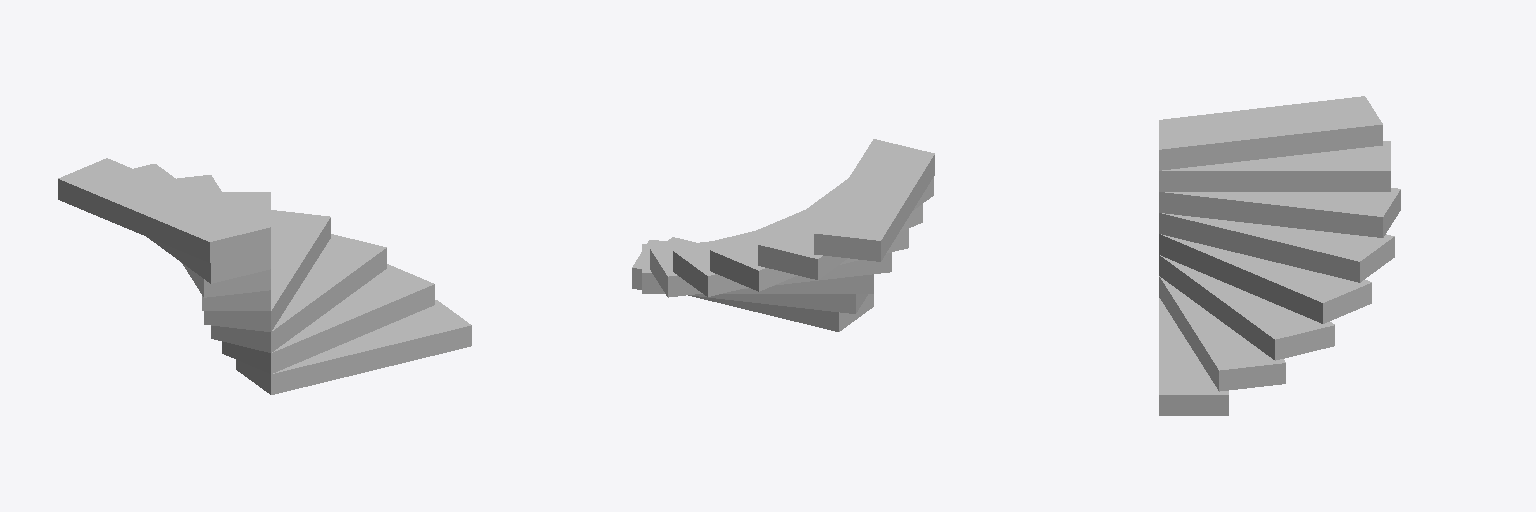
Rendered from steps.obj.
The picture shows the model from 3 angles: view 1: azimuth 30°, elevation 25°; view 2: azimuth 150°, elevation 25°; view 3: azimuth 270°, elevation 25°; orthographic projection.
Parts seen in each view (by area): view 1: Cube.001_Cube.002; view 2: Cube.001_Cube.002; view 3: Cube.001_Cube.002.
Part boxes in pixels (x1,y1,x2,y2): Cube.001_Cube.002: (58,158,471,394); Cube.001_Cube.002: (632,139,934,331); Cube.001_Cube.002: (1159,96,1400,415).
Size of the model in its own units: 6.19 by 3.2 by 4.18.